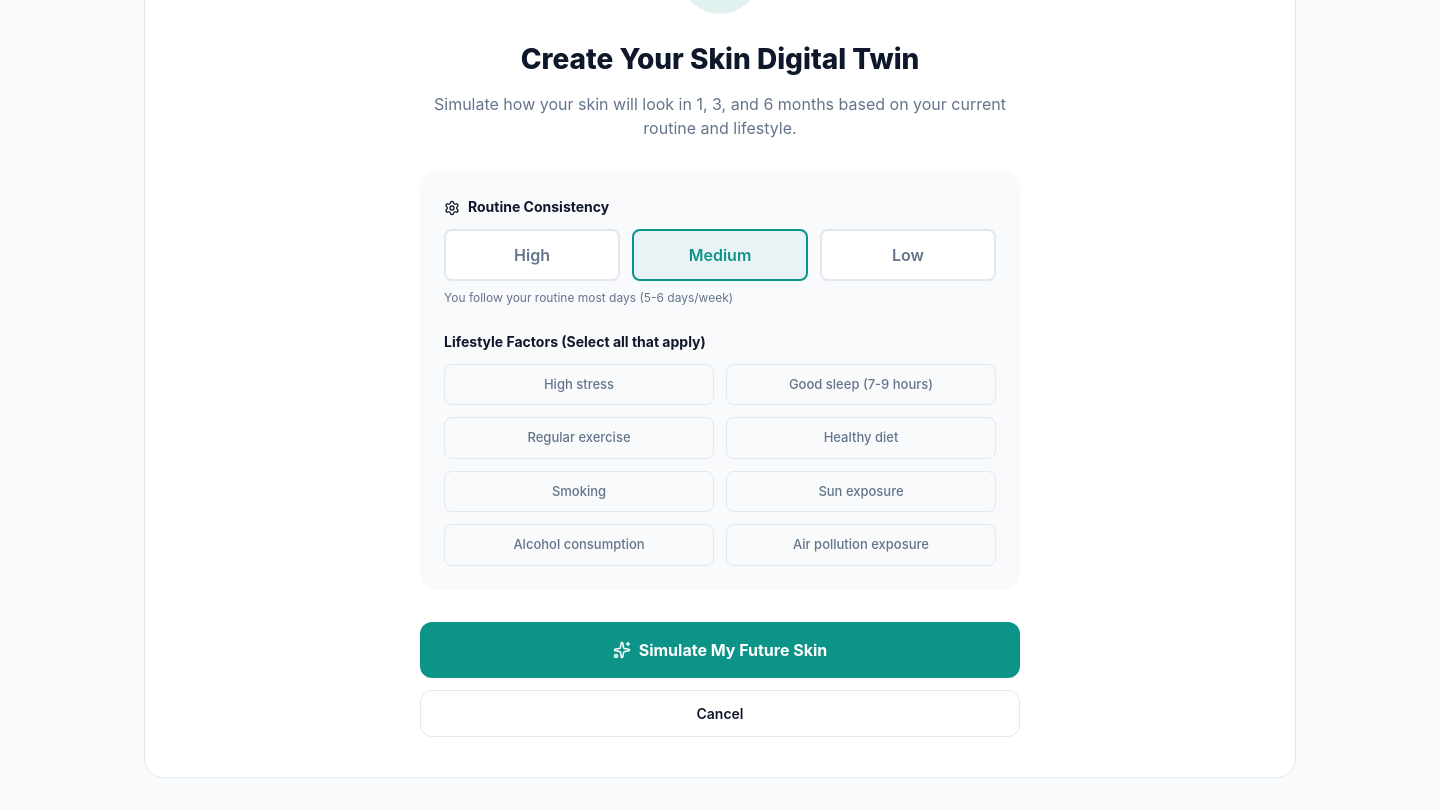
Test: SkinDigitalTwinPage Unit Tests › can create a new digital twin and show the timeline
The width and height of the screenshot is (1440, 810).
(page scrolled)
Check: the heading "Create Your Skin Digital Twin" is shown, box [521,42,919,76]
Step 1. Click the button "Simulate My Future Skin" → click(720, 650), box [420,622,1020,678]
(page scrolled)
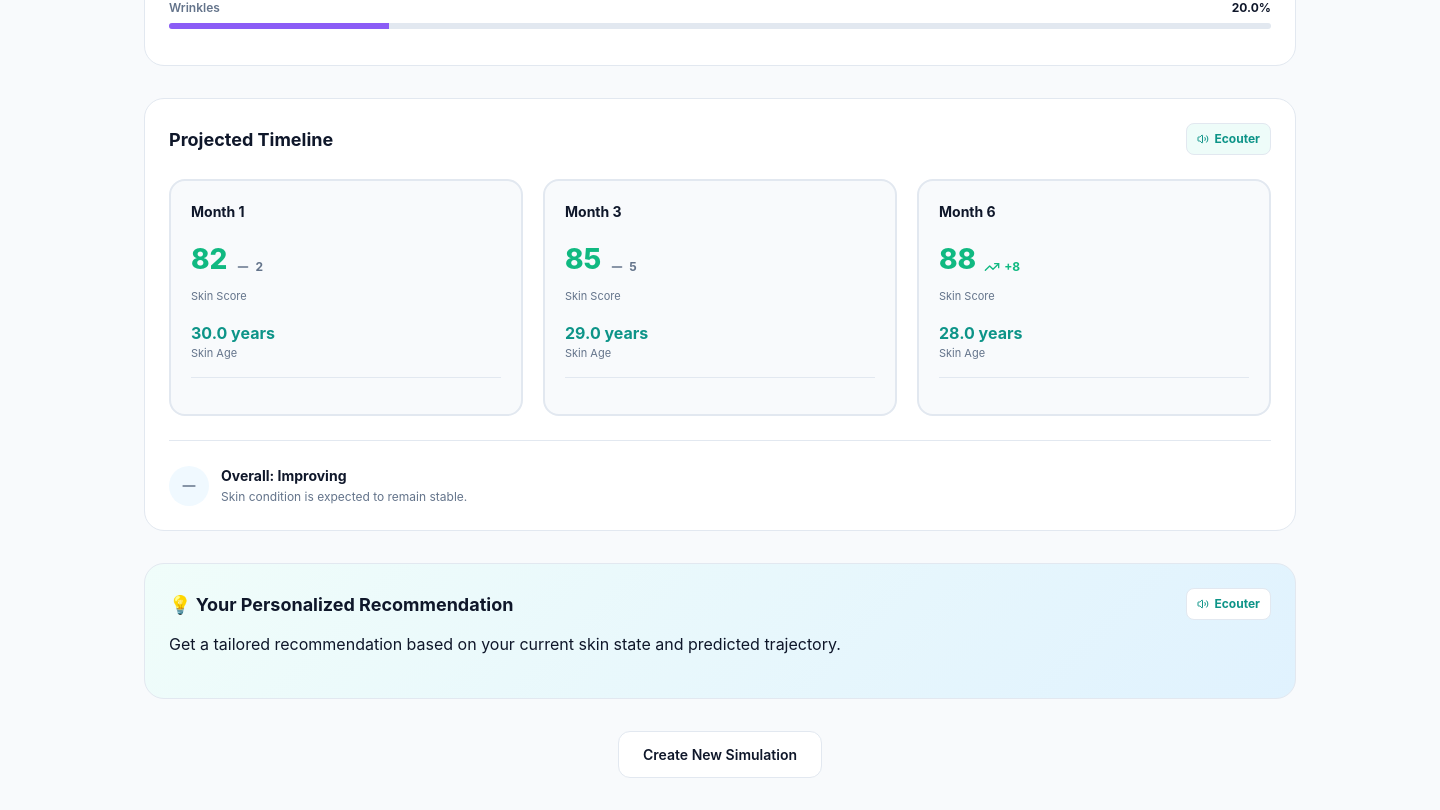
Check: the heading "💡 Your Personalized Recommendation" is shown, box [169,590,513,618]
